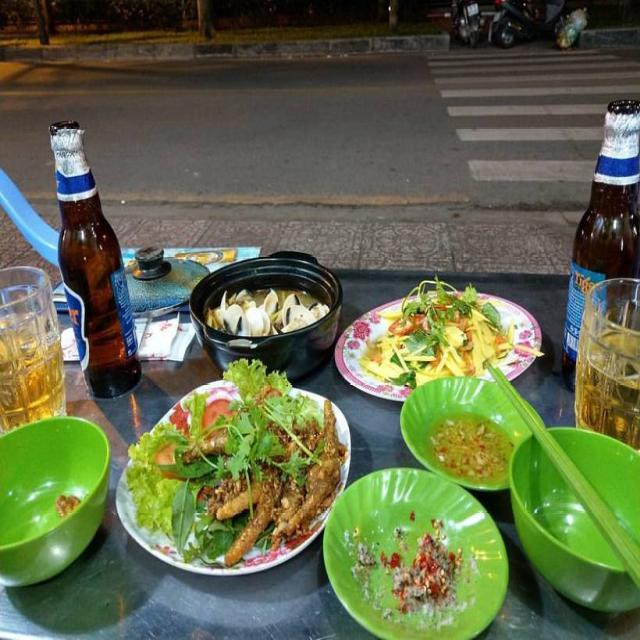bia: (47, 113, 147, 389), (558, 98, 640, 395), (570, 278, 640, 437), (0, 271, 67, 429)
chan ga sa tac: (132, 383, 345, 568)
ngheu hap: (202, 256, 333, 381)
xoai: (357, 286, 530, 385)
